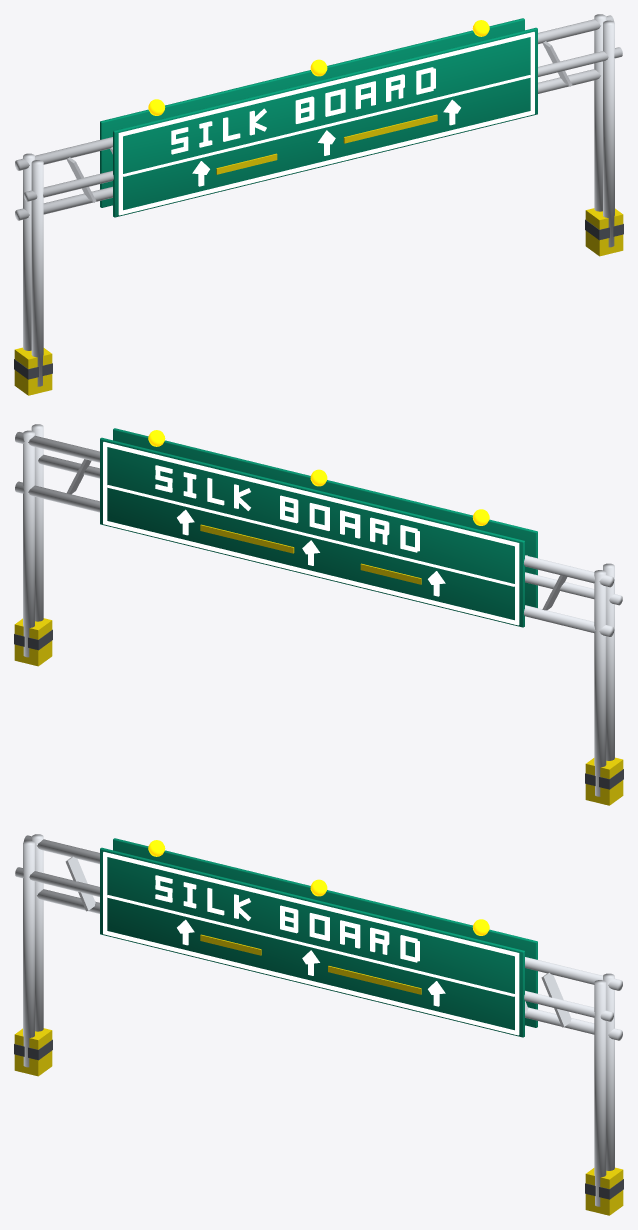
The model's file is silk_board_sign.glb.
3 views of the same model, one above another, from view 1: azimuth 30°, elevation 25°; view 2: azimuth 150°, elevation 25°; view 3: azimuth 330°, elevation 25° (orthographic).
Visible parts, largest first — view 1: Silk_Board_Gantry_Mesh; view 2: Silk_Board_Gantry_Mesh; view 3: Silk_Board_Gantry_Mesh.
Part boxes in pixels (box(x1,y1,x2,y2)): Silk_Board_Gantry_Mesh: box(14, 14, 623, 395); Silk_Board_Gantry_Mesh: box(14, 424, 623, 805); Silk_Board_Gantry_Mesh: box(14, 834, 623, 1215).
Bounding box in the file's own units: 27.54 × 11.39 × 2.08.
